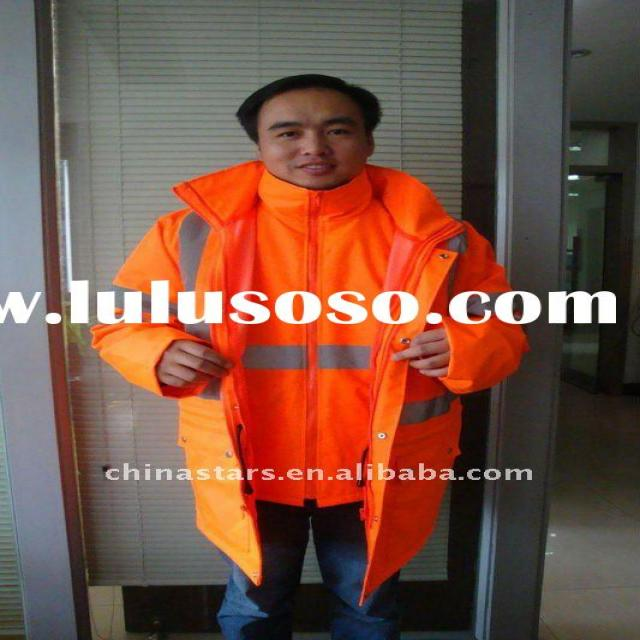Reflective-Jacket: (131, 161, 526, 516)
